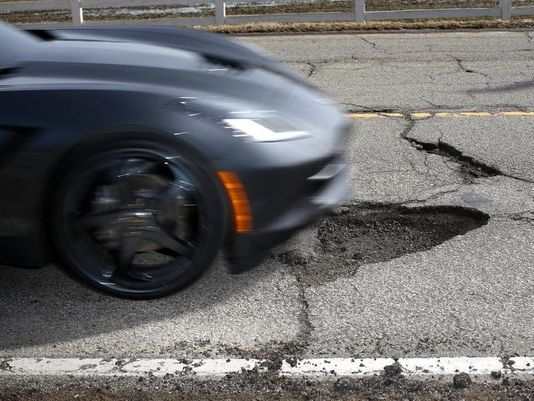car: (2, 1, 358, 312)
pothole: (264, 197, 495, 291), (379, 106, 524, 202)
